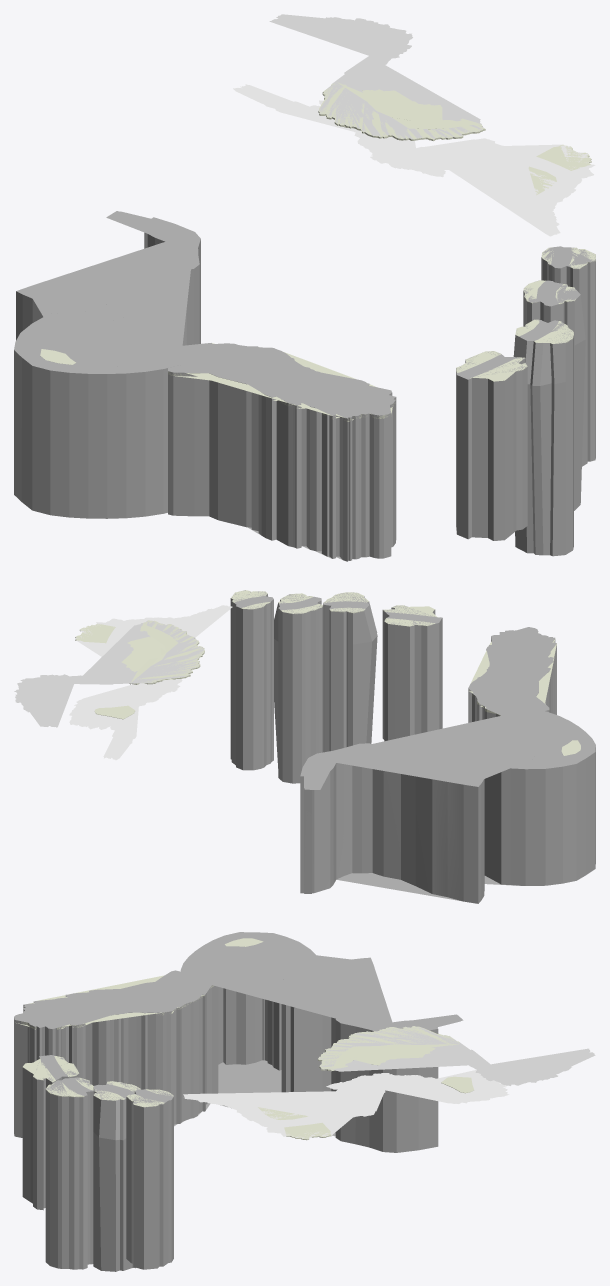
Rendered from LD 2 - Train track Collision 1.fbx.
3 views of the same model, one above another, from view 1: azimuth 30°, elevation 25°; view 2: azimuth 150°, elevation 25°; view 3: azimuth 270°, elevation 25° (orthographic). The views are drawn at different scales.
Visible parts, largest first — view 1: COL_Start_Plateau_Wall, COL_Waterfall_Wall, COL_Waterfall_Ground, COL_Lower_Track_Ground, COL_Pillar_3_Wall, COL Pillar_End_Plateau_Wall, COL_Higher_Track_Ground, COL_Start_Plateau_Ground.001, COL_Pillar_End_Plateau_Wall, COL_Higher_Track_Off-track, COL_Pillar_1_Wall, COL_Pillar_2_Wall (+6 smaller); view 2: COL_Waterfall_Wall, COL_Waterfall_Ground, COL_Pillar_2_Wall, COL_Pillar_3_Wall, COL_Pillar_1_Wall, COL Pillar_End_Plateau_Wall, COL_Higher_Track_Ground, COL_Lower_Track_Ground, COL_Start_Plateau_Ground.001, COL_Pillar_End_Plateau_Wall, COL_Higher_Track_Off-track, COL_Start_Plateau_Wall (+8 smaller); view 3: COL_Waterfall_Wall, COL_Start_Plateau_Wall, COL_Waterfall_Ground, COL_Pillar_3_Wall, COL_Lower_Track_Ground, COL_Pillar_1_Wall, COL_Pillar_2_Wall, COL_Higher_Track_Ground, COL_Start_Plateau_Ground.001, COL_Higher_Track_Off-track, COL Pillar_End_Plateau_Wall, COL_Lower_Track_Off-track (+7 smaller).
Part boxes in pixels (x1,y1,x2,y2): COL_Start_Plateau_Wall: [168, 371, 396, 561]; COL_Waterfall_Wall: [14, 211, 200, 518]; COL_Waterfall_Ground: [14, 211, 200, 373]; COL_Lower_Track_Ground: [233, 84, 595, 236]; COL_Pillar_3_Wall: [513, 335, 573, 556]; COL Pillar_End_Plateau_Wall: [456, 358, 527, 537]; COL_Higher_Track_Ground: [269, 14, 484, 139]; COL_Start_Plateau_Ground.001: [168, 343, 395, 418]; COL_Pillar_End_Plateau_Wall: [456, 359, 527, 540]; COL_Higher_Track_Off-track: [318, 82, 485, 141]; COL_Pillar_1_Wall: [541, 257, 595, 466]; COL_Pillar_2_Wall: [523, 291, 585, 510]; COL_Waterfall_Wall: [300, 747, 595, 903]; COL_Waterfall_Ground: [300, 708, 595, 789]; COL_Pillar_2_Wall: [274, 599, 323, 783]; COL_Pillar_3_Wall: [323, 596, 377, 752]; COL_Pillar_1_Wall: [230, 594, 273, 770]; COL Pillar_End_Plateau_Wall: [382, 607, 442, 740]; COL_Higher_Track_Ground: [14, 621, 204, 727]; COL_Lower_Track_Ground: [69, 605, 232, 760]; COL_Start_Plateau_Ground.001: [468, 627, 556, 715]; COL_Pillar_End_Plateau_Wall: [382, 607, 442, 740]; COL_Higher_Track_Off-track: [121, 620, 204, 684]; COL_Start_Plateau_Wall: [468, 637, 556, 722]; COL_Waterfall_Wall: [218, 987, 460, 1152]; COL_Start_Plateau_Wall: [14, 985, 218, 1137]; COL_Waterfall_Ground: [180, 932, 463, 1031]; COL_Pillar_3_Wall: [45, 1083, 93, 1269]; COL_Lower_Track_Ground: [183, 1069, 509, 1138]; COL_Pillar_1_Wall: [126, 1091, 173, 1269]; COL_Pillar_2_Wall: [93, 1087, 135, 1271]; COL_Higher_Track_Ground: [318, 1026, 595, 1085]; COL_Start_Plateau_Ground.001: [14, 970, 211, 1028]; COL_Higher_Track_Off-track: [318, 1026, 459, 1071]; COL Pillar_End_Plateau_Wall: [22, 1057, 79, 1207]; COL_Lower_Track_Off-track: [258, 1107, 331, 1140].
Bounding box in the file's own units: 53421 × 23986 × 55385.
